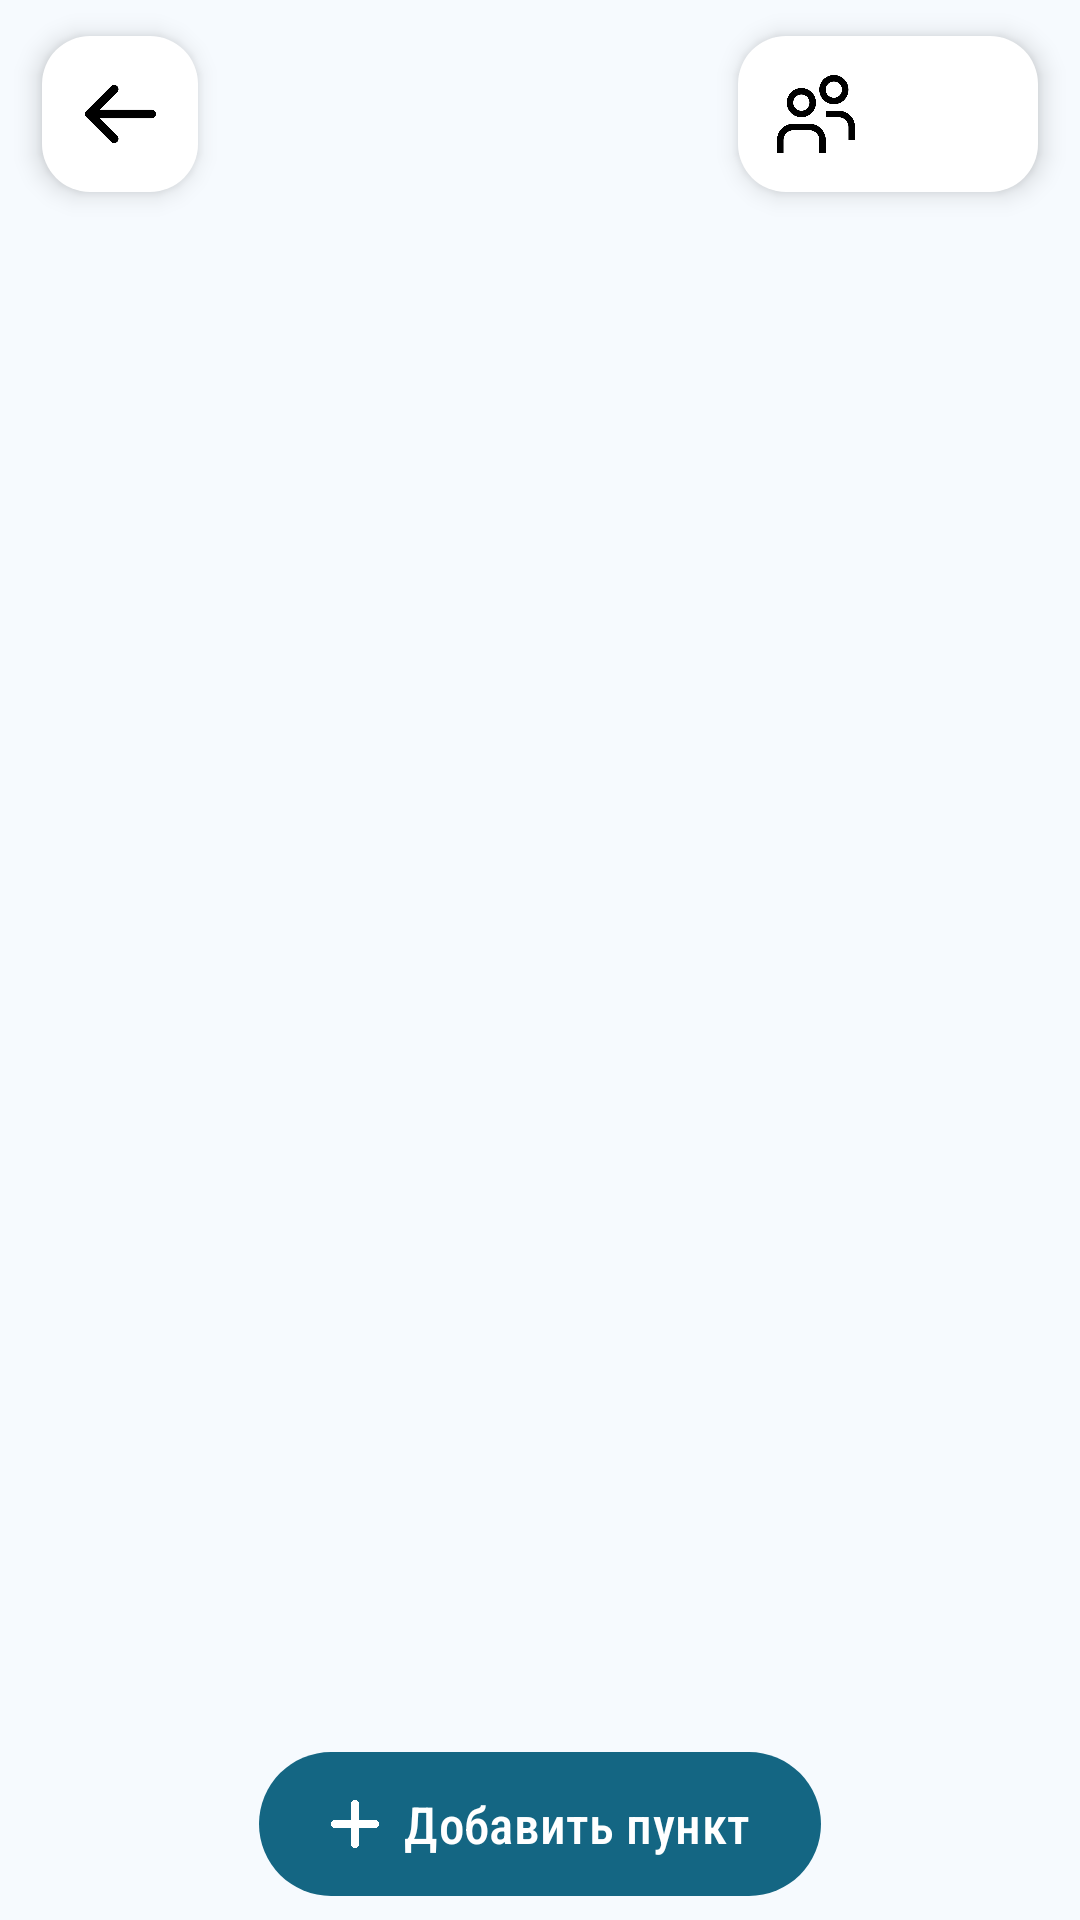

Screen size 1080w x 1920h. Icon name, then its box in pixels as (x1, y1, x2, y2):
back: (85, 85, 156, 143)
users: (777, 75, 855, 153)
